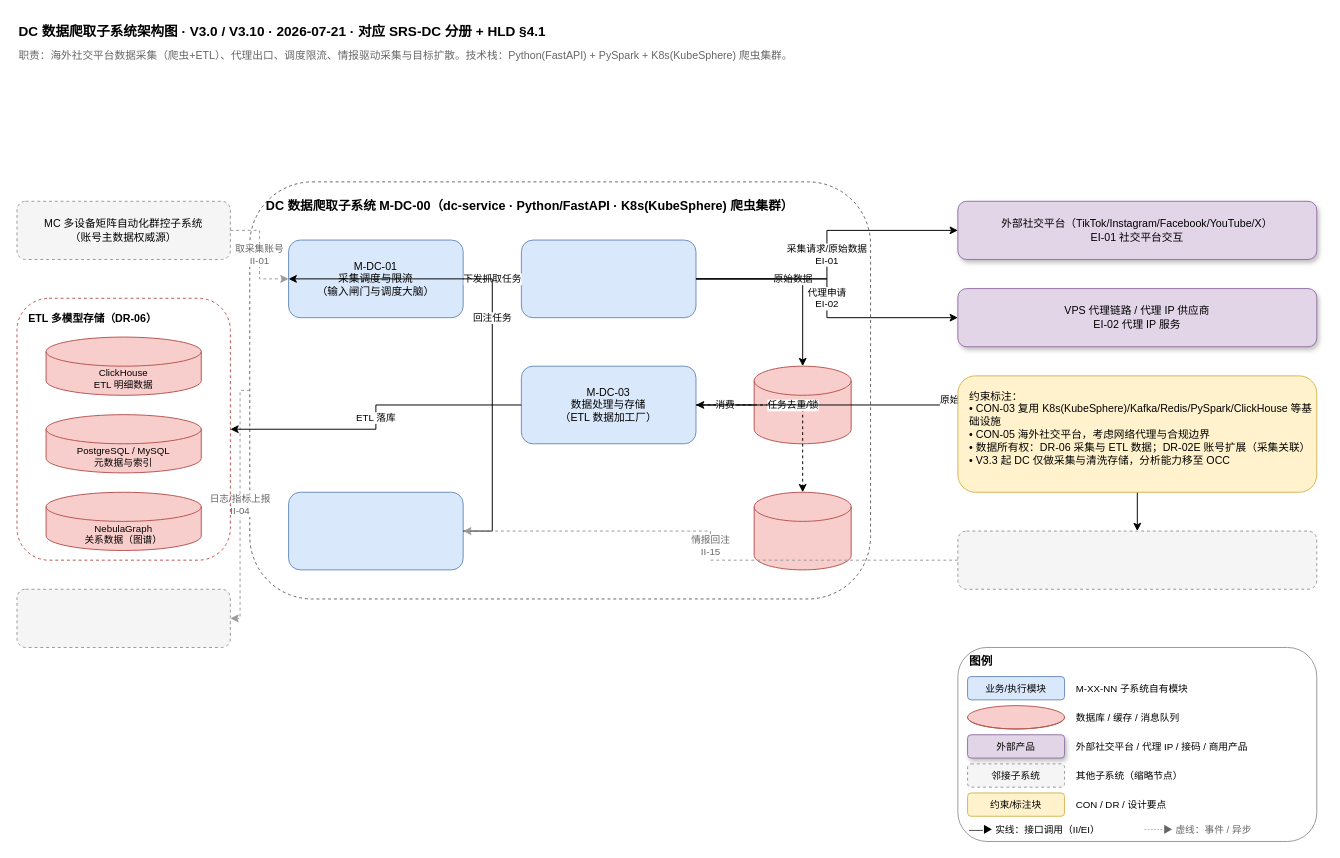
Image size: 1340x858. Some labels were removed from this diagram. The shapes that lost their labels are listed below. From the top down, each one's centre as x and y in pixels, then its label:
the point at 608,278: M-DC-02 多平台数据采集与策略自优化 （爬虫执行器）
the point at 802,404: Kafka II-05 数据总线 （原始数据流转）
the point at 375,530: M-DC-04 情报驱动采集与目标扩散 （反向驱动大脑）
the point at 802,530: Redis 任务去重 + 分布式锁 + 调度队列
the point at 1137,559: OCC 舆情行动业务子系统 （数据分析与情报 / 回注来源）
the point at 123,617: OM 运维监控子系统 （日志指标汇聚）
the point at 1016,717: 数据
